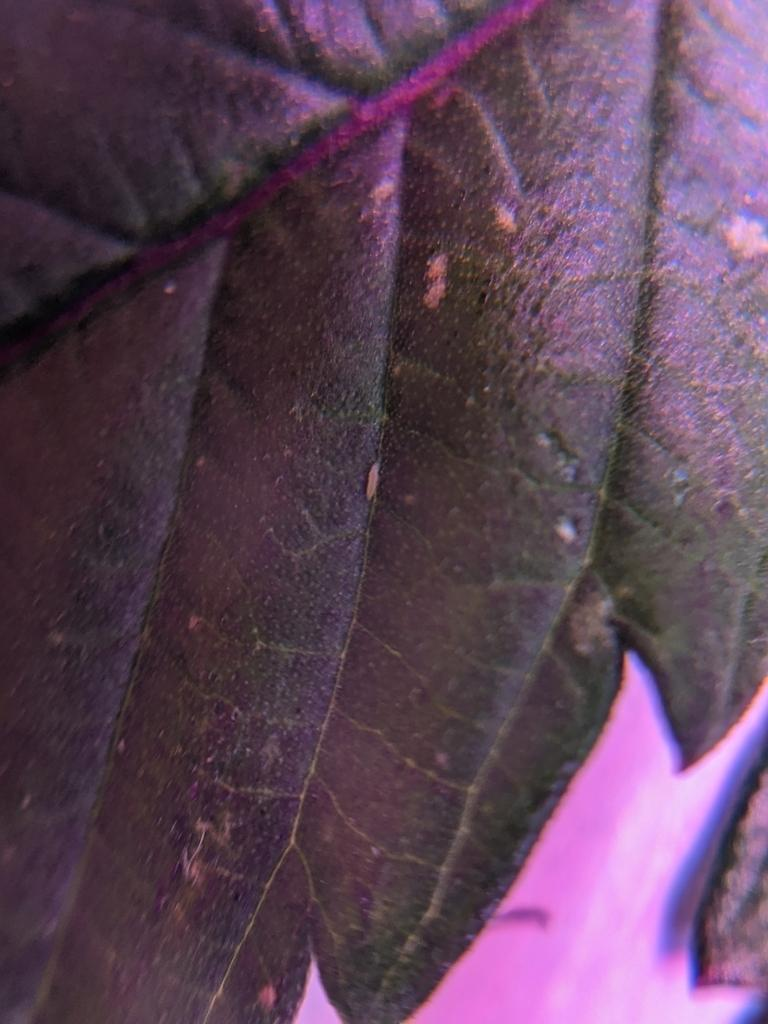tiny_pests: (352, 450, 393, 513)
